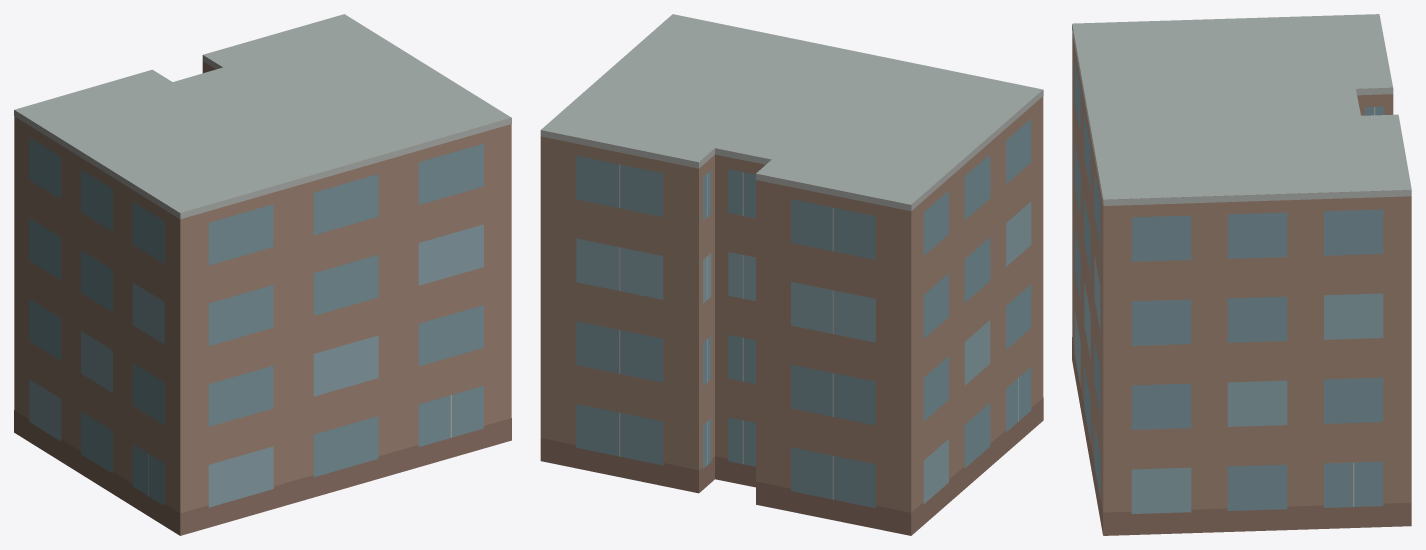
File: survey-upis-32735133.glb
3 renders of one model, left to right at view 1: azimuth 30°, elevation 25°; view 2: azimuth 150°, elevation 25°; view 3: azimuth 270°, elevation 25°, orthographic. The views are drawn at different scales.
Parts seen in each view (by area): view 1: survey-upis-32735133.tmp; view 2: survey-upis-32735133.tmp; view 3: survey-upis-32735133.tmp.
Part boxes in pixels (<box>): survey-upis-32735133.tmp: <box>14,14,511,535</box>; survey-upis-32735133.tmp: <box>540,14,1043,535</box>; survey-upis-32735133.tmp: <box>1072,14,1411,535</box>.
Bounding box in the file's own units: 15.04 × 12.7 × 11.64.
